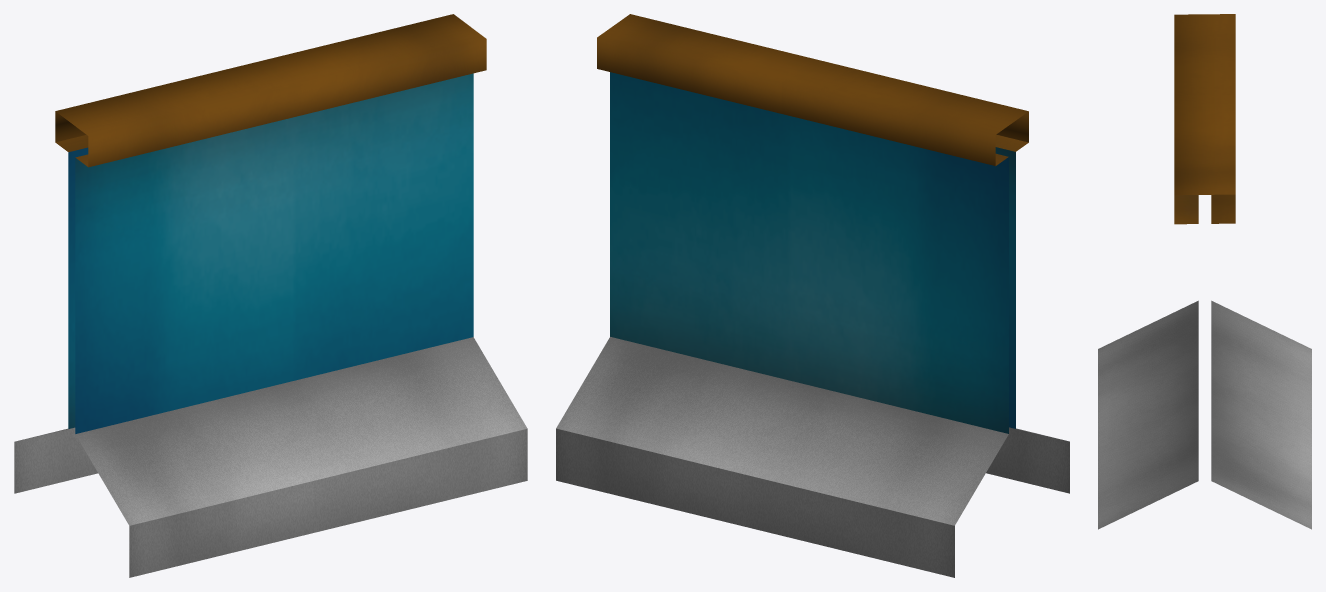
Rendered from FUT0510055.fbx.
The picture shows the model from 3 angles, left to right: view 1: azimuth 30°, elevation 25°; view 2: azimuth 150°, elevation 25°; view 3: azimuth 270°, elevation 25°; orthographic projection. The views are drawn at different scales.
Visible parts, largest first — view 1: smFUT0510055; view 2: smFUT0510055; view 3: smFUT0510055.
Part boxes in pixels (box(x1,y1,x2,y2)): smFUT0510055: box(14, 14, 527, 577); smFUT0510055: box(556, 14, 1069, 577); smFUT0510055: box(1098, 14, 1311, 529).
Bounding box in the file's own units: 305 × 302 × 152.
Materials: 1 (1 with a texture image).
